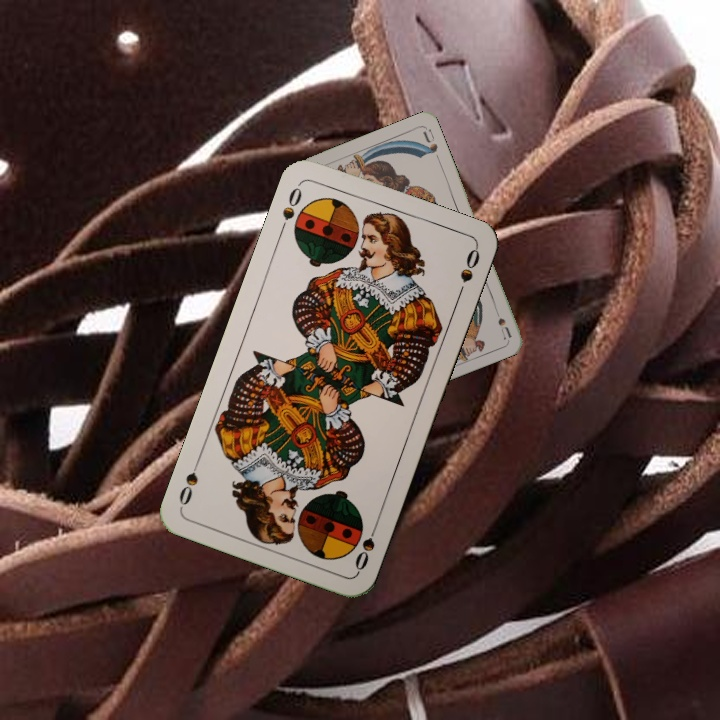SO: (351, 517, 382, 574), (275, 180, 305, 237)
SU: (490, 301, 514, 342)
